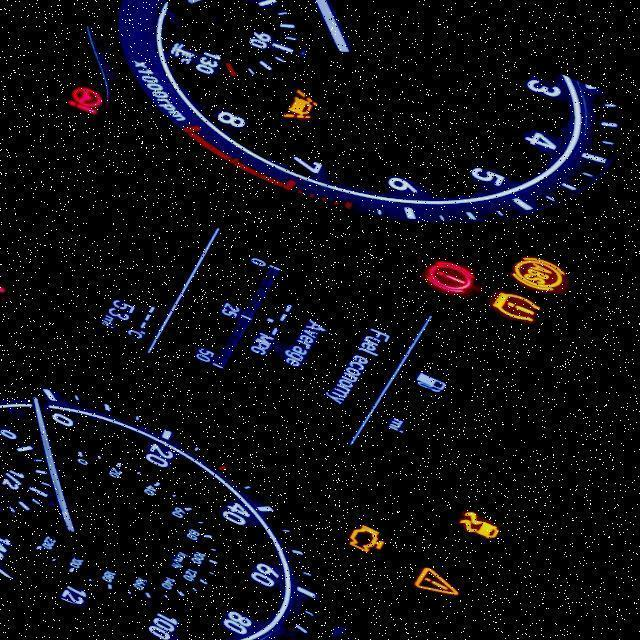Electronic Power Steering: (57, 76, 124, 125)
